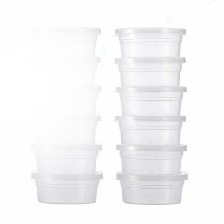plastic_box: (25, 53, 105, 93), (27, 83, 104, 123), (25, 168, 106, 206), (23, 22, 103, 60), (111, 22, 188, 61), (26, 140, 105, 176), (111, 84, 189, 119), (111, 54, 188, 89), (113, 172, 190, 207), (112, 142, 188, 177), (26, 113, 102, 148), (111, 113, 188, 147)
